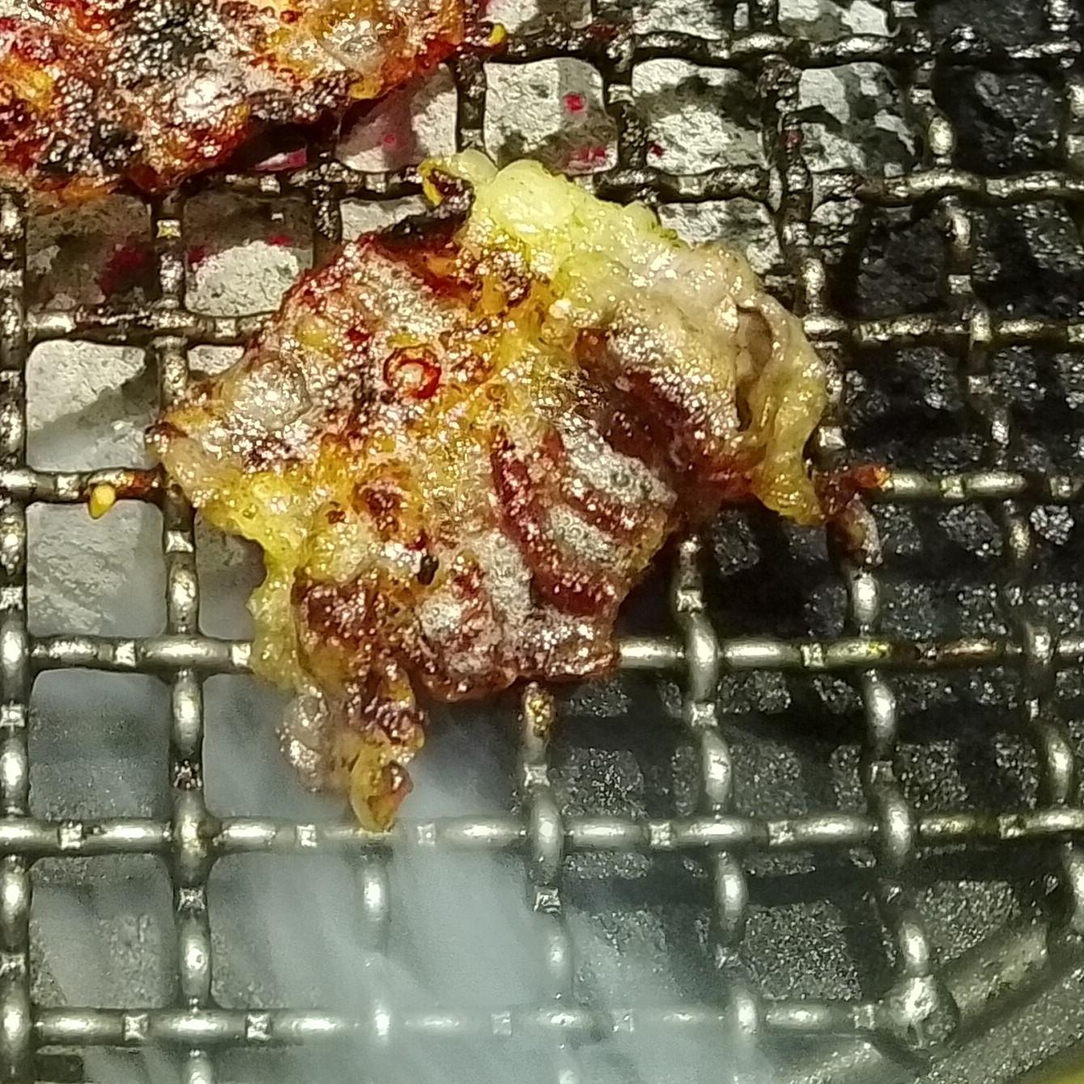Overcooked: (154, 150, 881, 831), (0, 0, 509, 194)
